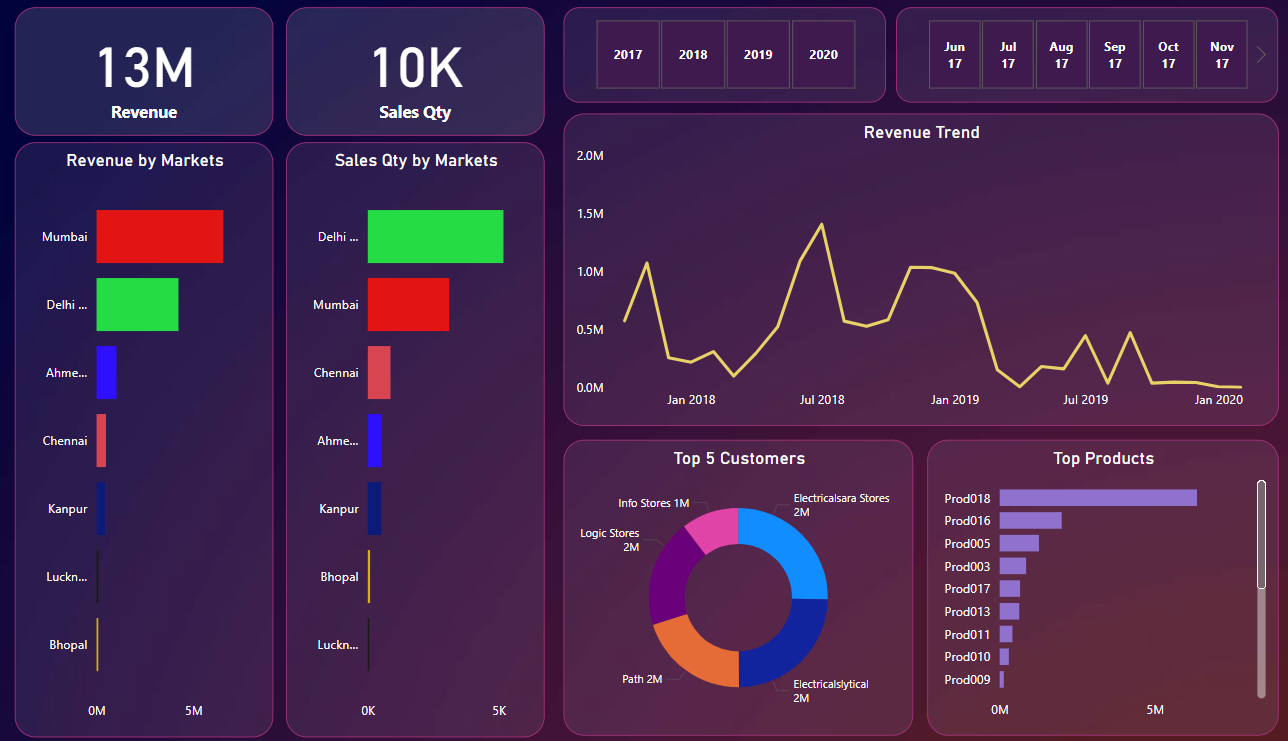

This screenshot's page, from the dashboard's own definition file:
{"tool":"powerbi","page":{"name":"Page 1","canvas":[1280,720],"ordinal":0},"visuals":[{"type":"card","fields":{"Values":["BaseMeasures.Revenue"]},"box":[27.7,10.9,249.7,124.3],"z":0},{"type":"card","fields":{"Values":["BaseMeasures.Sales Qty"]},"box":[289.5,10.9,249.7,124.3],"z":1000},{"type":"barChart","title":"Revenue by Markets","fields":{"Y":["BaseMeasures.Revenue"],"Category":["markets.markets_name"]},"box":[27.7,141.2,249.7,574.3],"z":2000},{"type":"barChart","title":"Sales Qty by Markets","fields":{"Y":["BaseMeasures.Sales Qty"],"Category":["markets.markets_name"]},"box":[289.5,141.2,249.7,574.3],"z":3000},{"type":"donutChart","title":"Top 5 Customers","fields":{"Category":["customers.customer_name"],"Y":["BaseMeasures.Revenue"]},"box":[557.4,428.3,337.8,285.9],"z":4000},{"type":"barChart","title":"Top Products","fields":{"Y":["BaseMeasures.Revenue"],"Category":["products.product_code"]},"box":[908.4,428.3,339,285.9],"z":5000},{"type":"lineChart","title":"Revenue Trend","fields":{"Y":["BaseMeasures.Revenue"],"Category":["date.cy_date"]},"box":[557.4,113.4,690.1,301.6],"z":6000},{"type":"slicer","fields":{"Values":["date.cy_date"]},"box":[878.3,10.9,369.2,91.7],"z":7000},{"type":"slicer","fields":{"Values":["date.year"]},"box":[557.4,10.9,311.3,91.7],"z":8000}]}

Visuals, with their boxes in screenshot pixels (x1, y1, x2, y2), scaled from the page's 1280x720 canvas onto the 1288x741 screenshot:
card - BaseMeasures.Revenue: <bbox>28, 11, 279, 139</bbox>
card - BaseMeasures.Sales Qty: <bbox>291, 11, 543, 139</bbox>
"Revenue by Markets" barChart: <bbox>28, 145, 279, 736</bbox>
"Sales Qty by Markets" barChart: <bbox>291, 145, 543, 736</bbox>
"Top 5 Customers" donutChart: <bbox>561, 441, 901, 735</bbox>
"Top Products" barChart: <bbox>914, 441, 1255, 735</bbox>
"Revenue Trend" lineChart: <bbox>561, 117, 1255, 427</bbox>
slicer - date.cy_date: <bbox>884, 11, 1255, 106</bbox>
slicer - date.year: <bbox>561, 11, 874, 106</bbox>
